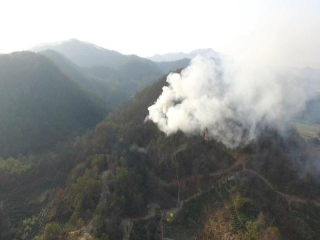smoke: (146, 41, 307, 154)
